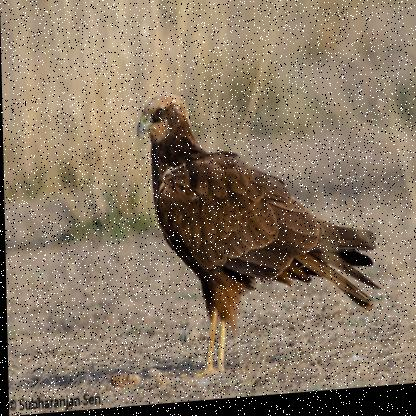Burung: (132, 84, 376, 375)
